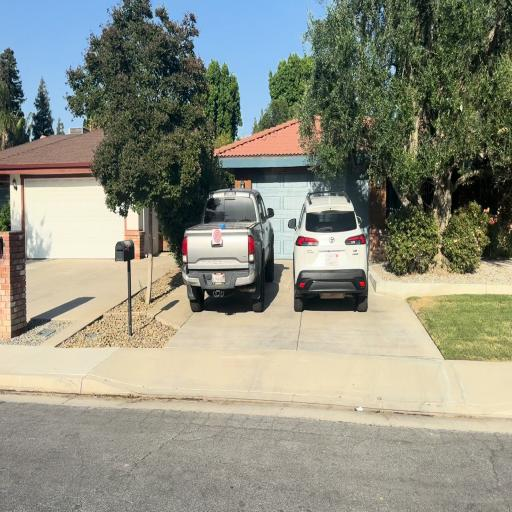bullseye: (213, 228, 222, 244)
